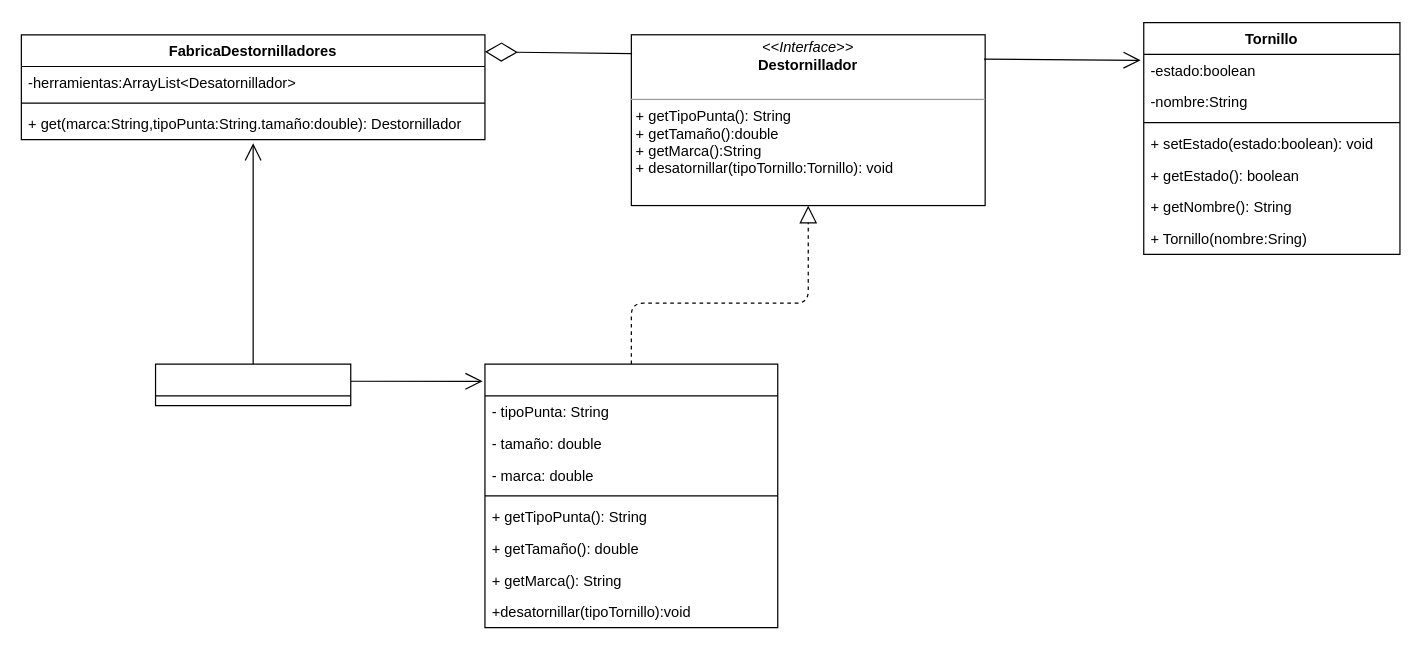
Some shapes in this 1421 by 653 pixel diagram are drawn without their labels. Here are the shapes that lost their labels. From the top down, the box of each, then its label:
(154, 363, 351, 406): Cliente
(484, 363, 778, 628): DestornilladorConcreto
